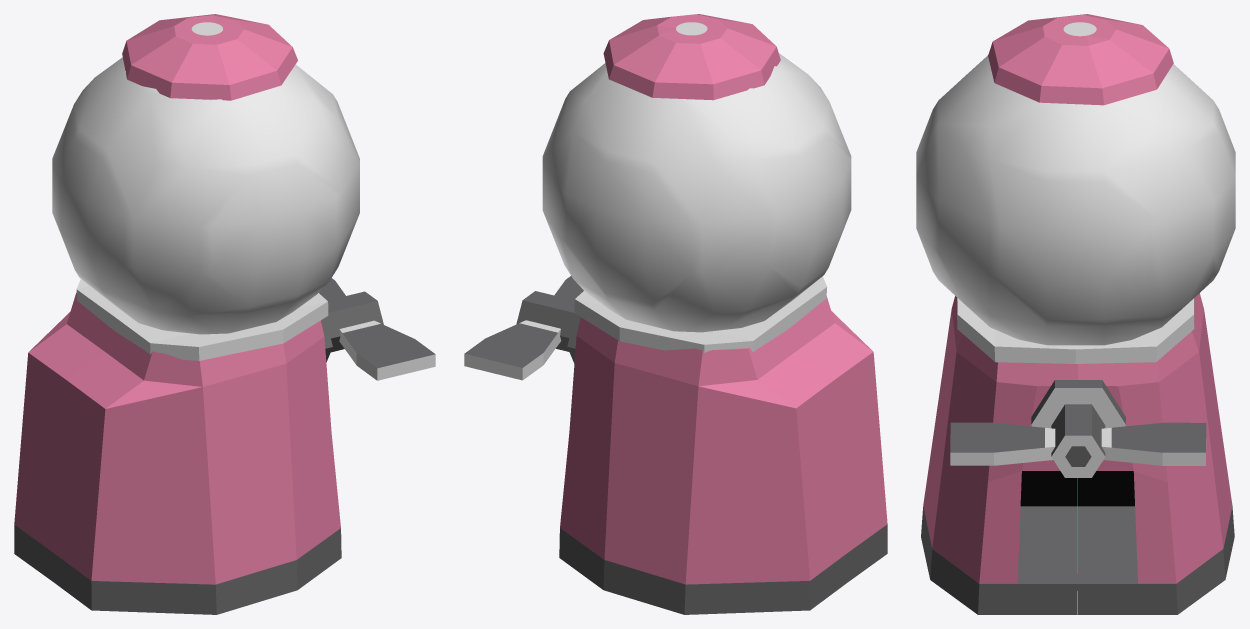
The model's file is gumball.fbx.
3 views of the same model, side by side, from view 1: azimuth 30°, elevation 25°; view 2: azimuth 150°, elevation 25°; view 3: azimuth 270°, elevation 25° (orthographic). The views are drawn at different scales.
Visible parts, largest first — view 1: Cube.001, Mball.001, Cylinder, Cube.000, Cube.002, Circle.001; view 2: Cube.001, Mball.001, Cylinder, Cube.000, Circle.001, Cube.002; view 3: Mball.001, Cube.001, Cylinder, Circle.001, Cube.000, Cube.002, Circle.
Part boxes in pixels (bbox=[...]): Cube.001: bbox=[14, 292, 340, 584]; Mball.001: bbox=[52, 57, 359, 334]; Cylinder: bbox=[122, 14, 297, 100]; Cube.000: bbox=[14, 524, 341, 614]; Cube.002: bbox=[76, 279, 328, 360]; Circle.001: bbox=[319, 278, 435, 380]; Cube.001: bbox=[560, 296, 887, 584]; Mball.001: bbox=[542, 53, 851, 332]; Cylinder: bbox=[603, 14, 780, 100]; Cube.000: bbox=[559, 524, 887, 614]; Circle.001: bbox=[464, 276, 583, 380]; Cube.002: bbox=[574, 276, 827, 353]; Mball.001: bbox=[916, 55, 1235, 345]; Cube.001: bbox=[923, 293, 1232, 583]; Cylinder: bbox=[988, 14, 1173, 105]; Circle.001: bbox=[950, 404, 1206, 477]; Cube.000: bbox=[921, 506, 1234, 614]; Cube.002: bbox=[957, 297, 1194, 363]; Circle: bbox=[1031, 380, 1125, 461].
Bounding box in the file's own units: 483 × 736 × 393.
